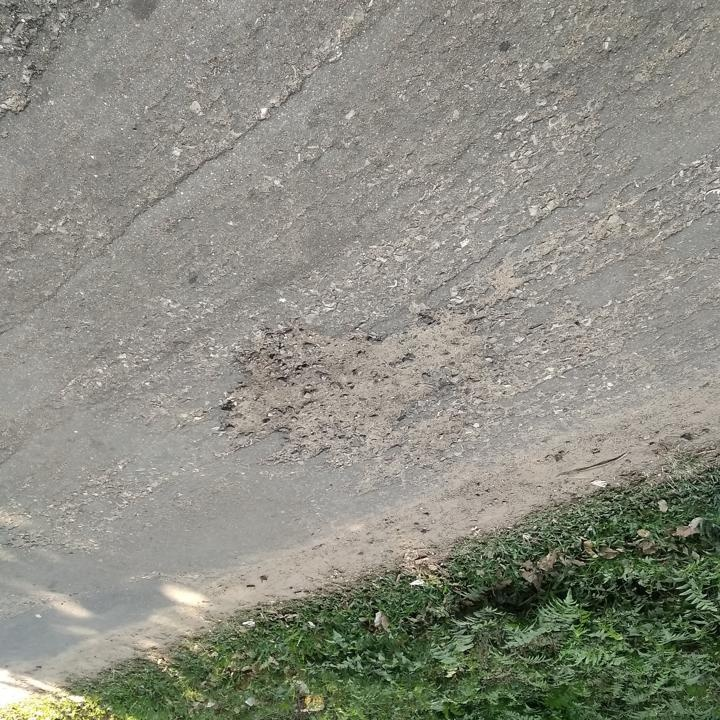pothole: (211, 310, 482, 469)
